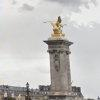Statue: (36, 16, 76, 54)
